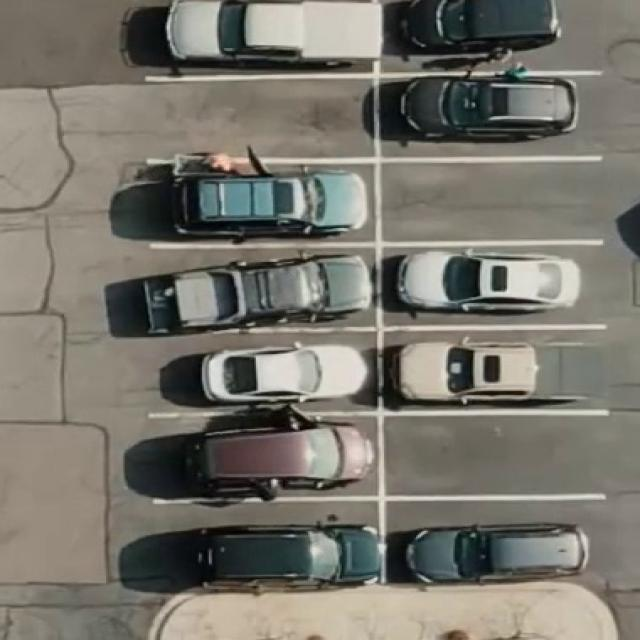empty: (147, 85, 366, 154), (385, 420, 602, 489), (389, 167, 595, 239)
notEmpty: (160, 509, 374, 585), (150, 167, 370, 240), (155, 251, 374, 324), (384, 80, 600, 154), (392, 252, 605, 323), (157, 424, 371, 494), (391, 337, 608, 406), (396, 512, 606, 583), (152, 1, 368, 69), (160, 340, 370, 407), (391, 0, 594, 65)
